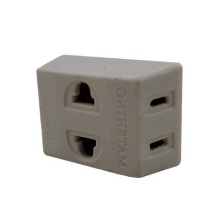three_eye_plug: (32, 49, 188, 180)
